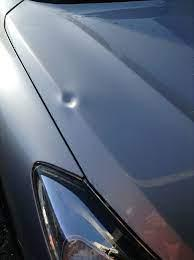bonnet-dent: (0, 0, 193, 197)
